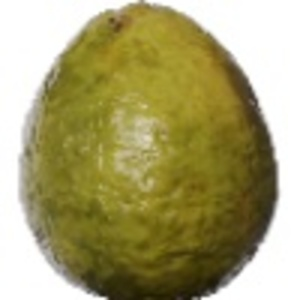goiaba: (16, 3, 283, 296)
